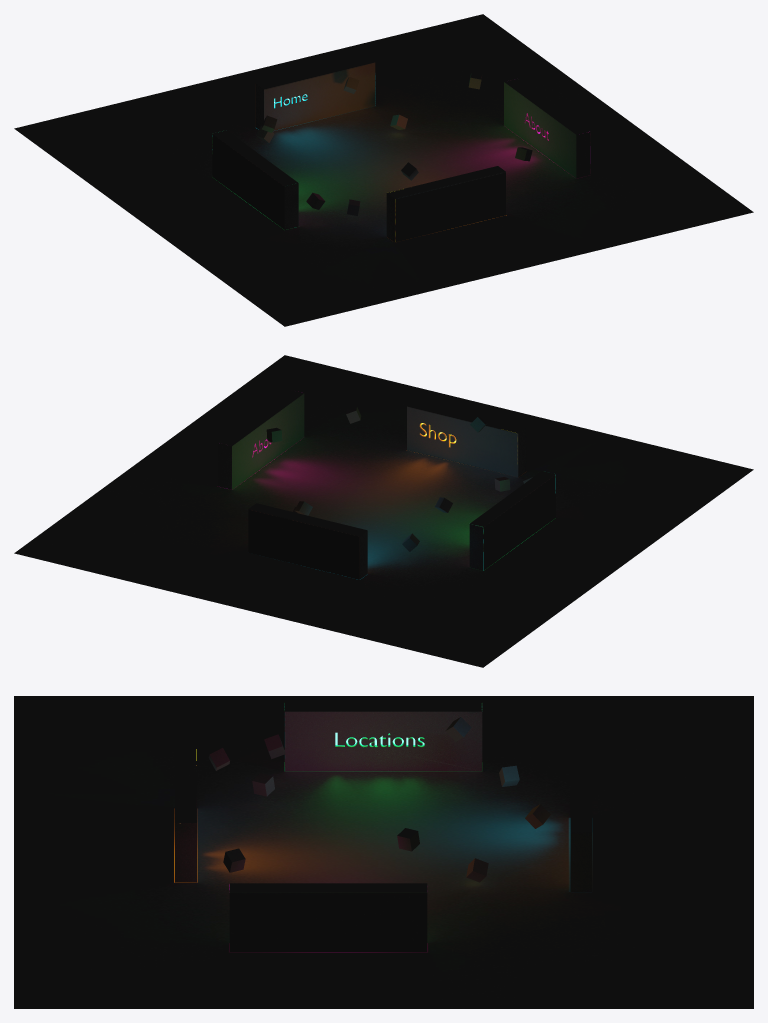
The model's file is menu-baked.gltf.
3 renders of one model, top to bottom at view 1: azimuth 30°, elevation 25°; view 2: azimuth 150°, elevation 25°; view 3: azimuth 270°, elevation 25°, orthographic. The views are drawn at different scales.
Parts seen in each view (by area): view 1: Floor, Shop, Home, Locations, About; view 2: Floor, Home, Shop, Locations, About; view 3: Floor, About, Locations, Home, Shop.
Boxes of the visible parts, x1=… form: Floor: x1=14, y1=14, x2=753, y2=326; Shop: x1=386, y1=166, x2=505, y2=242; Home: x1=255, y1=56, x2=375, y2=130; Locations: x1=212, y1=130, x2=298, y2=229; About: x1=504, y1=78, x2=590, y2=178; Floor: x1=14, y1=355, x2=753, y2=667; Home: x1=248, y1=503, x2=367, y2=579; Shop: x1=407, y1=400, x2=526, y2=477; Locations: x1=469, y1=471, x2=555, y2=570; About: x1=218, y1=390, x2=304, y2=489; Floor: x1=14, y1=696, x2=753, y2=1008; About: x1=229, y1=883, x2=427, y2=952; Locations: x1=284, y1=702, x2=482, y2=771; Home: x1=570, y1=758, x2=592, y2=891; Shop: x1=175, y1=749, x2=196, y2=882.
Bounding box in the file's own units: 67.38 × 8.84 × 67.38.
Materials: 18 (14 with a texture image).
